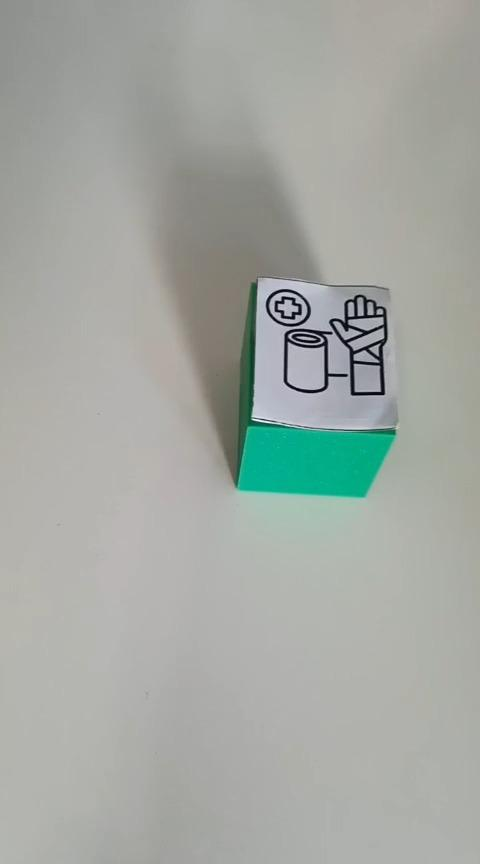Bandages: (235, 275, 399, 498)
